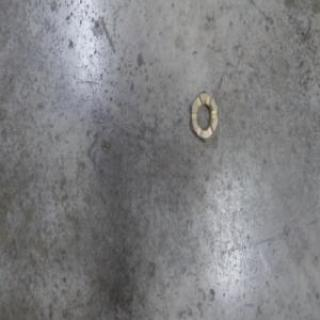Nuttrack_idkeyframe: (190, 88, 217, 143)
